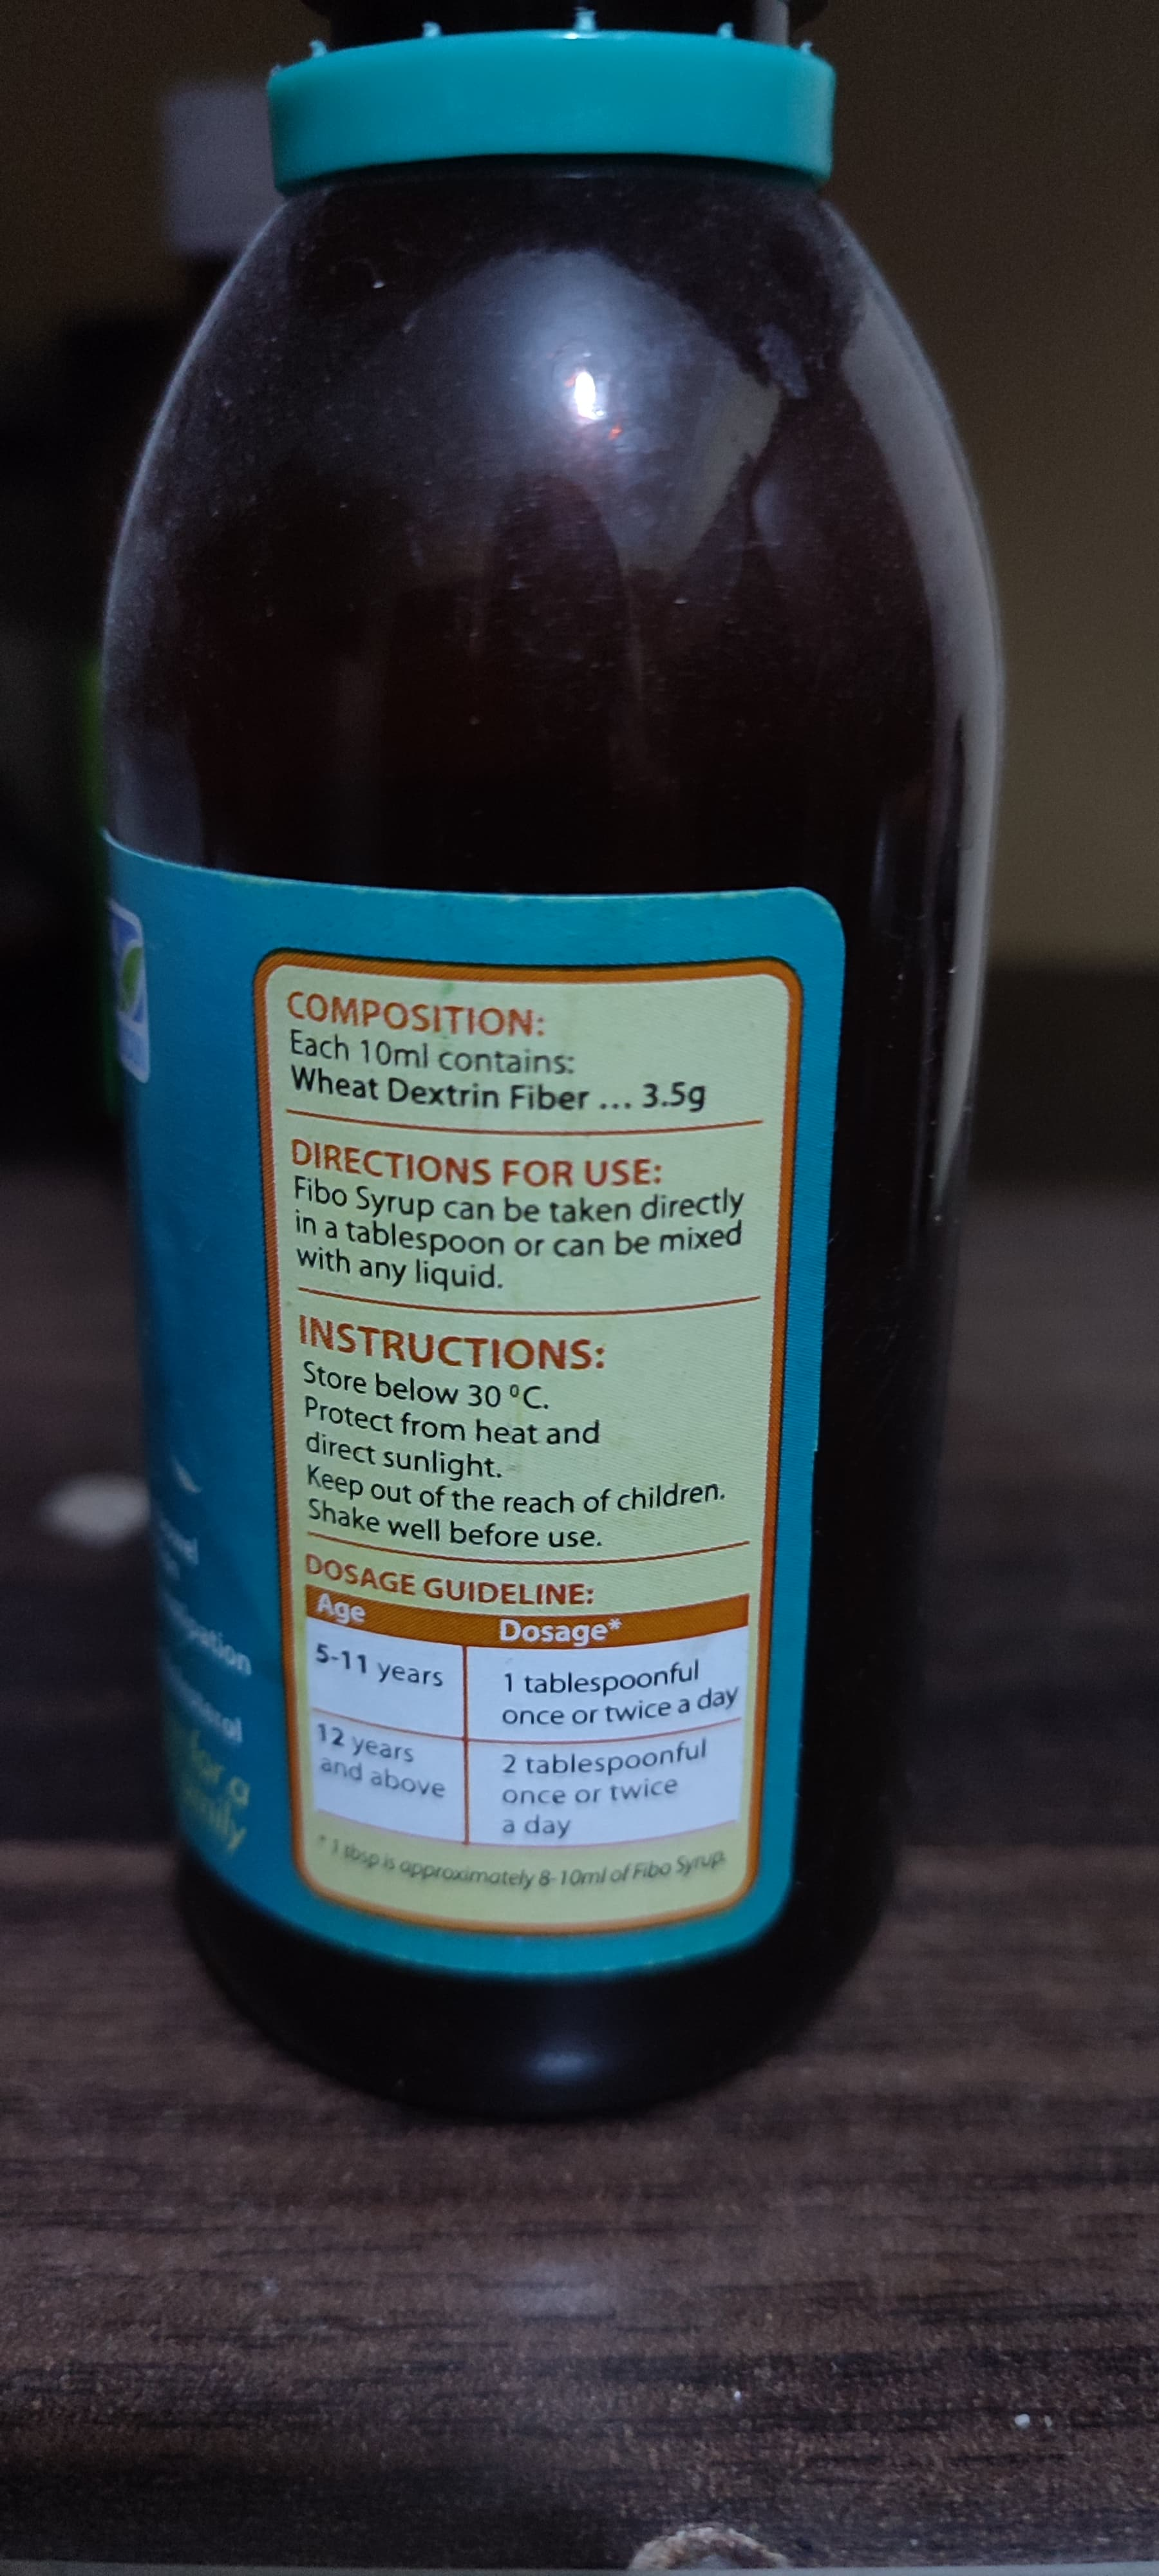table: (295, 1584, 749, 1843)
